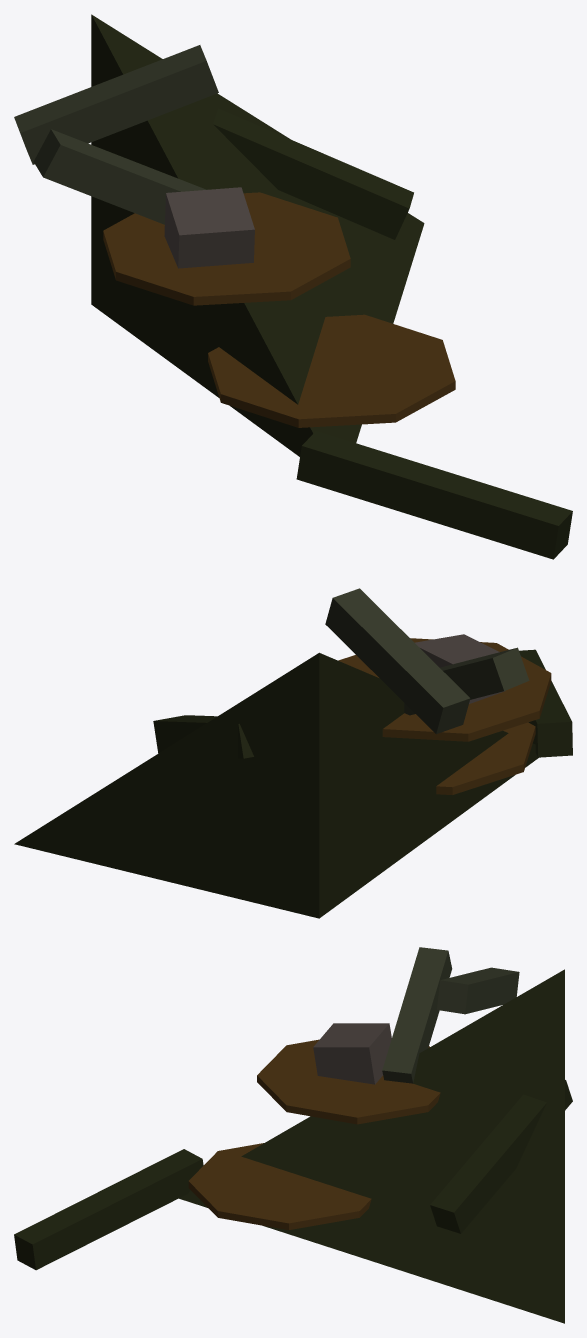
Rendered from SM_PilaZombi_RemateDer_Altura1_s1_LOD1.fbx.
The picture shows the model from 3 angles, top to bottom: view 1: azimuth 30°, elevation 25°; view 2: azimuth 150°, elevation 25°; view 3: azimuth 270°, elevation 25°; orthographic projection. The views are drawn at different scales.
Parts seen in each view (by area): view 1: SM_pila_zombis_v5_LOD1; view 2: SM_pila_zombis_v5_LOD1; view 3: SM_pila_zombis_v5_LOD1.
Part boxes in pixels (left/top/right/bottom): SM_pila_zombis_v5_LOD1: left=14, top=14, right=572, bottom=559; SM_pila_zombis_v5_LOD1: left=14, top=588, right=572, bottom=918; SM_pila_zombis_v5_LOD1: left=14, top=947, right=572, bottom=1323.
Size of the model in its own units: 1.7 by 1.1 by 2.23.
